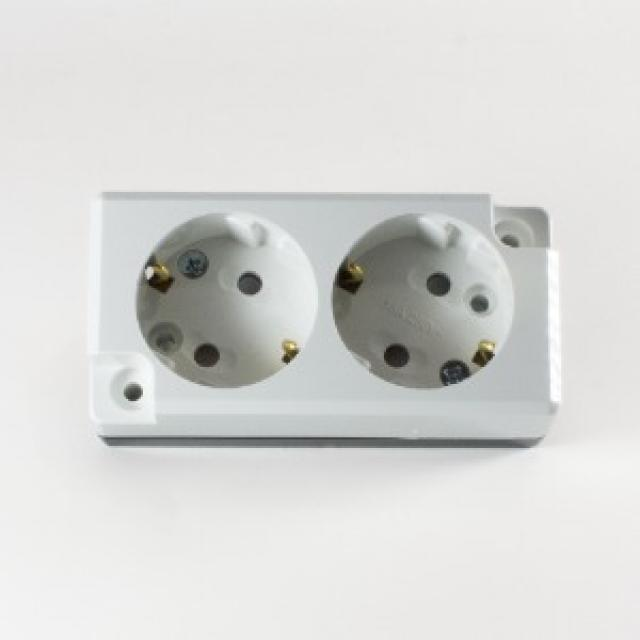typeb: (85, 169, 579, 465)
